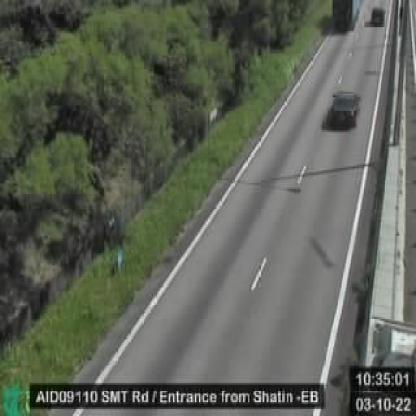Car: (329, 90, 360, 128)
